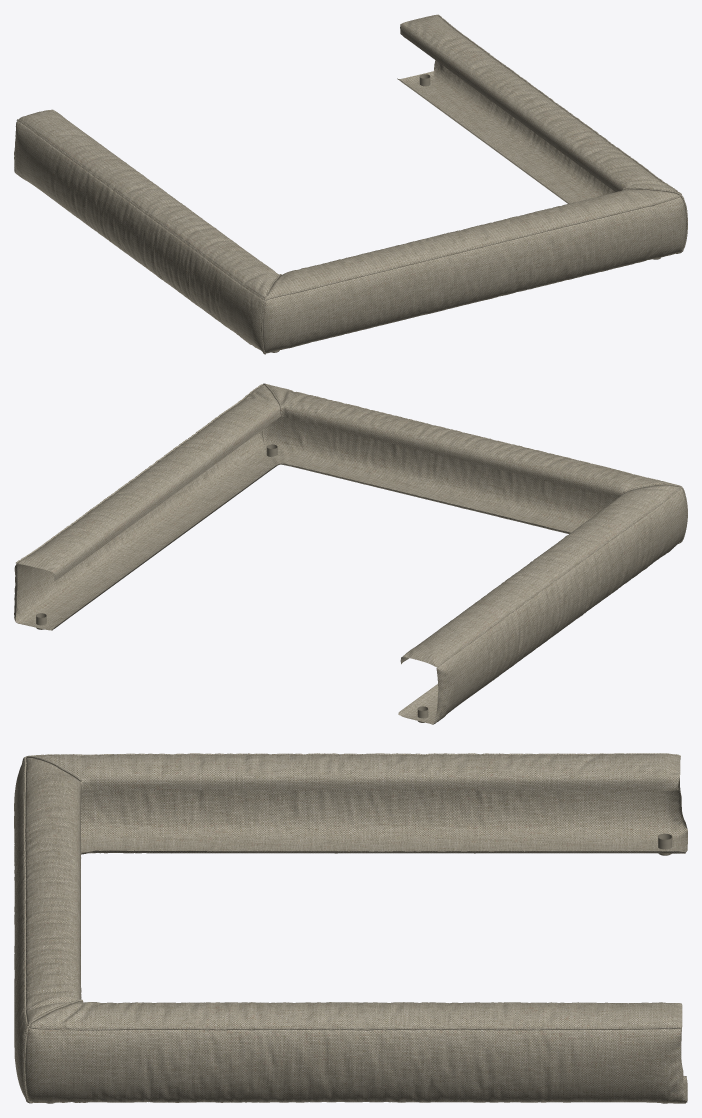
The picture shows the model from 3 angles, top to bottom: view 1: azimuth 30°, elevation 25°; view 2: azimuth 150°, elevation 25°; view 3: azimuth 270°, elevation 25°; orthographic projection. The views are drawn at different scales.
Visible parts, largest first — view 1: folto_headboard; view 2: folto_headboard; view 3: folto_headboard.
Boxes of the visible parts, x1,y1,x2,y2 form: folto_headboard: [14, 14, 687, 354]; folto_headboard: [14, 383, 687, 724]; folto_headboard: [14, 753, 687, 1103].
Bounding box in the file's own units: 1.85 × 0.281 × 1.86.
Materials: 1 (1 with a texture image).
